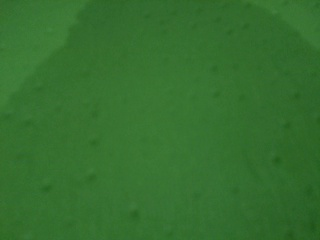Water_detected: (70, 44, 292, 240)
